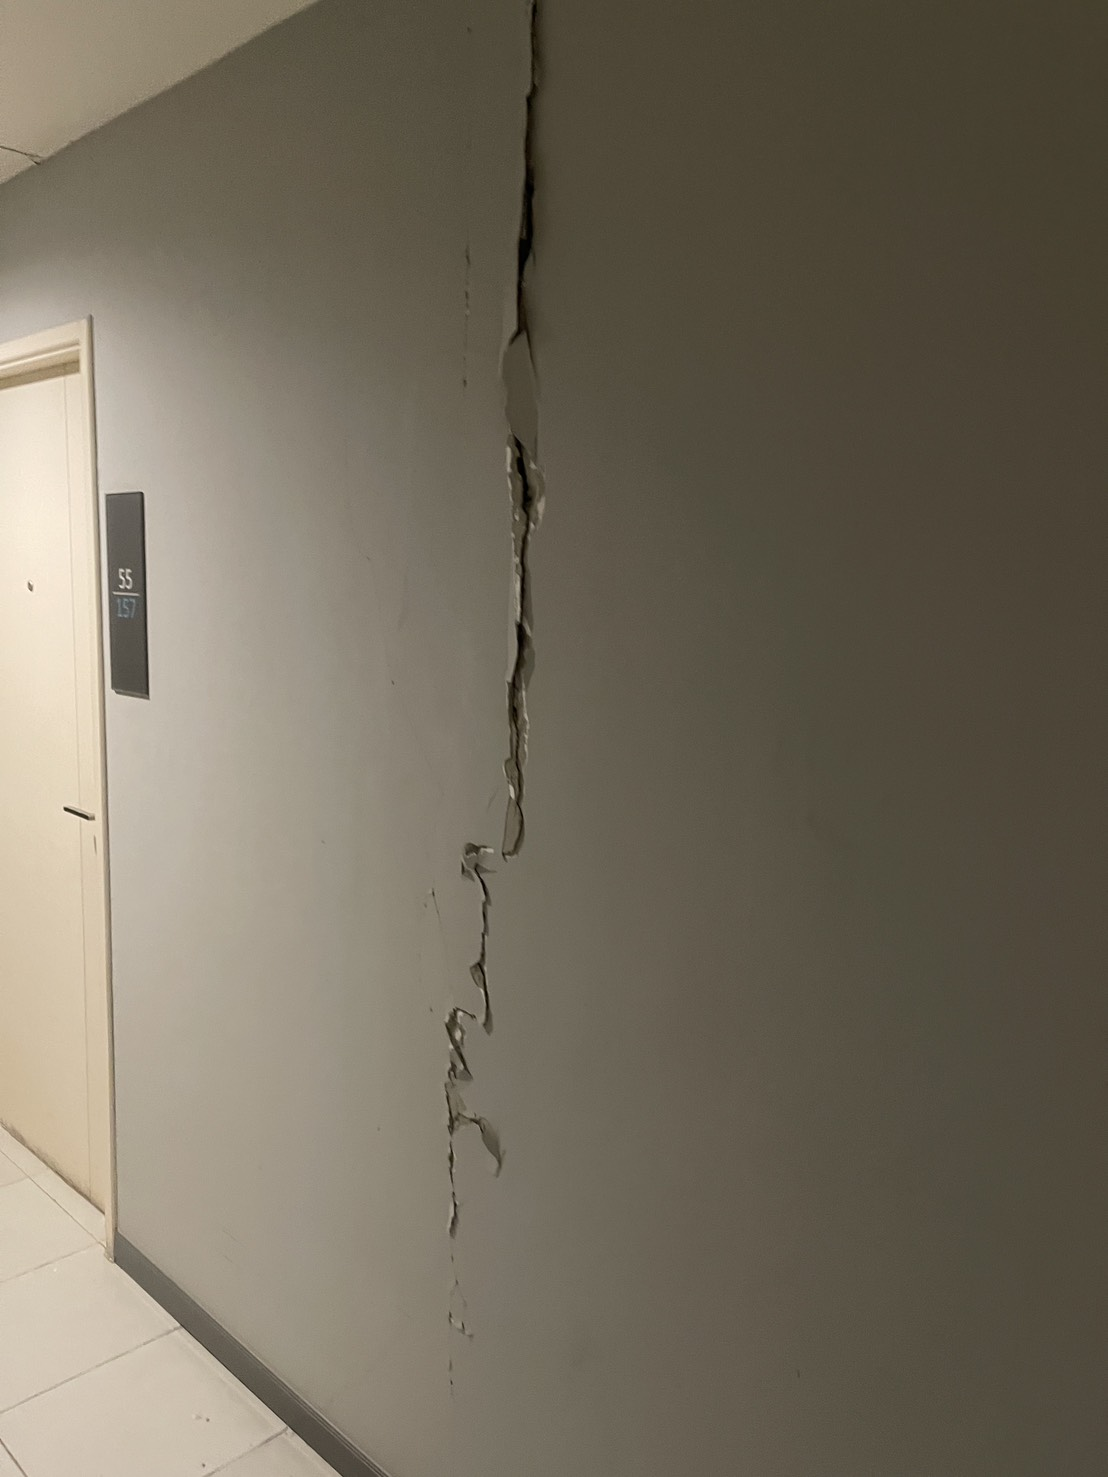Medium: (416, 59, 615, 1235)
